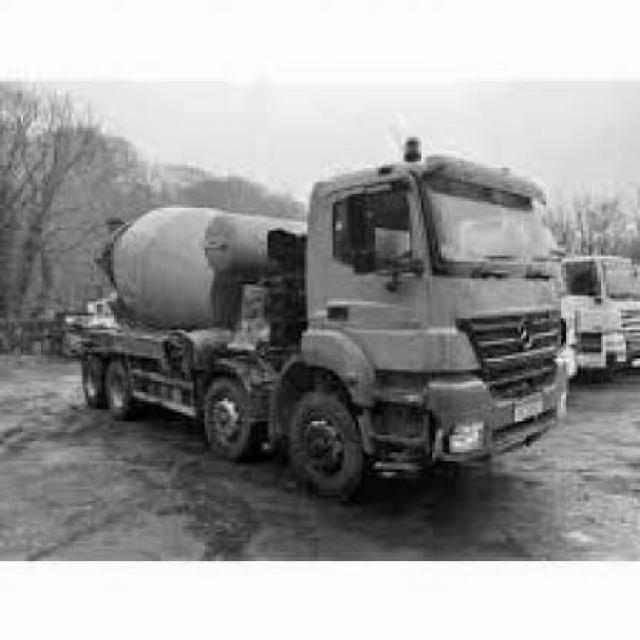Concrete Mixer: (62, 136, 576, 503)
